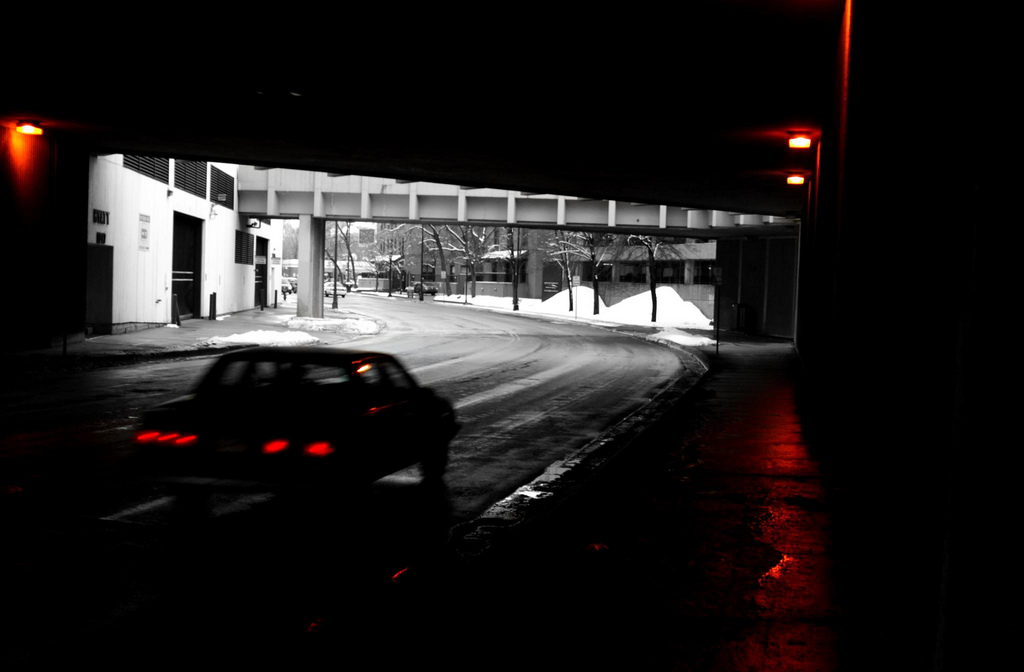car: (118, 328, 476, 536)
